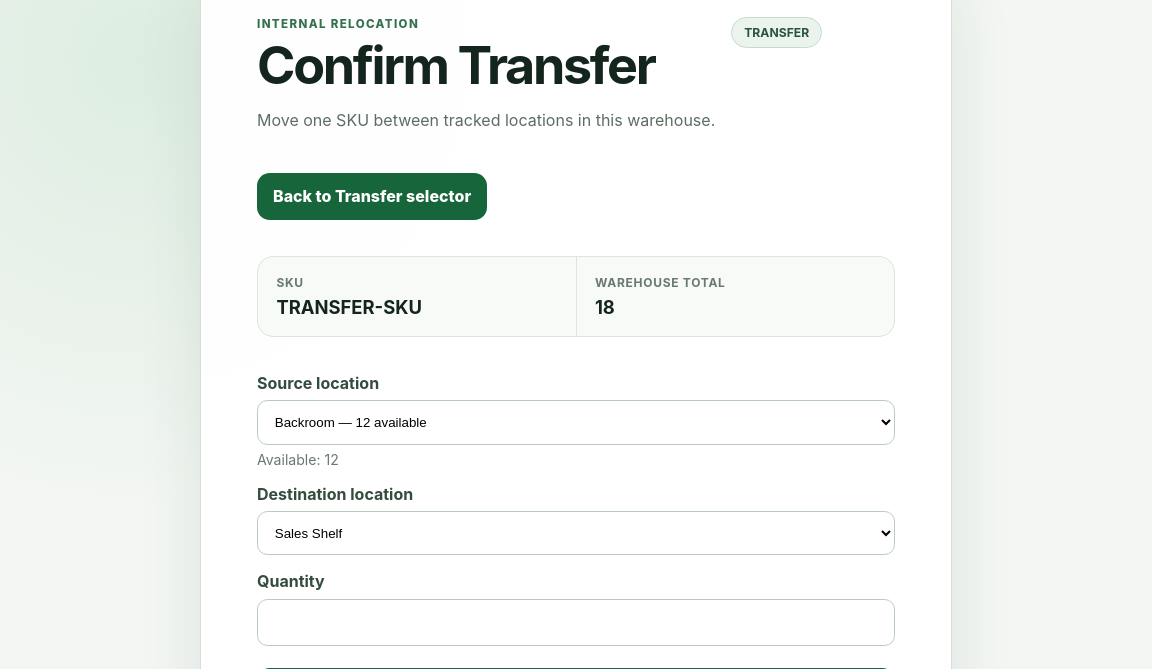
Test case: US-TRF-001 Transfer page › reuses a key after a network failure for the same command
The width and height of the screenshot is (1152, 669).
Expected: the text "TRANSFER-SKU" is shown, x1=276 y1=296 x2=422 y2=318
Type "4" into the field labelled "Quantity" at x=576, y=622, box x1=257 y1=598 x2=895 y2=646
(page scrolled)
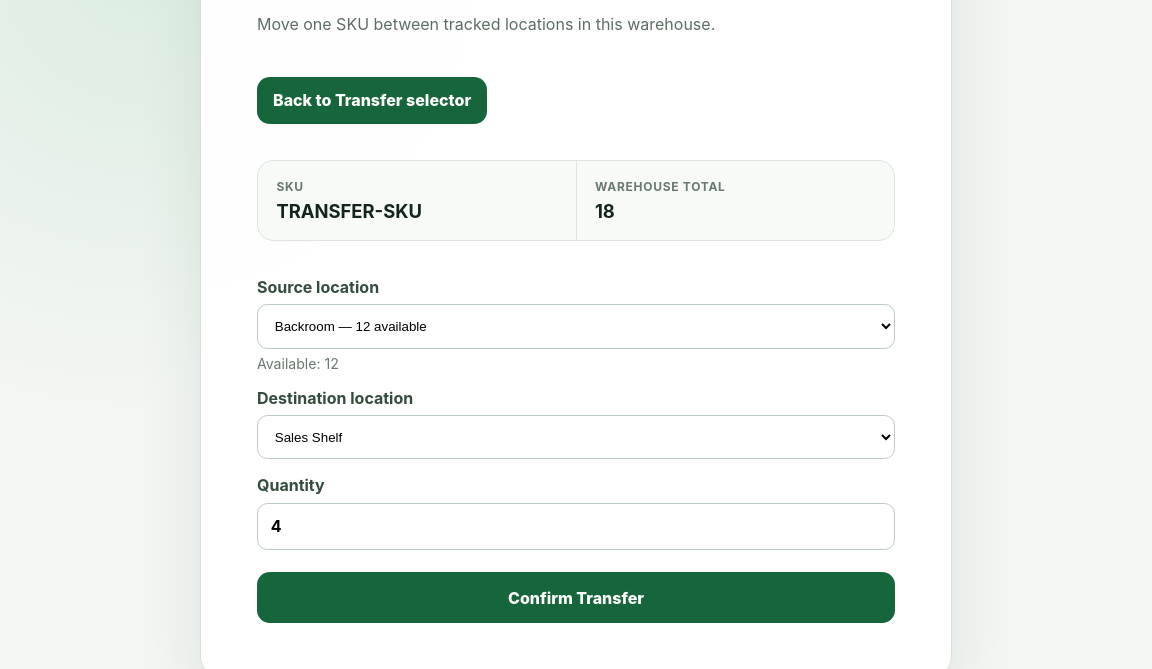
Click the button "Confirm Transfer" at x=576, y=598, box x1=257 y1=572 x2=895 y2=623
(page scrolled)
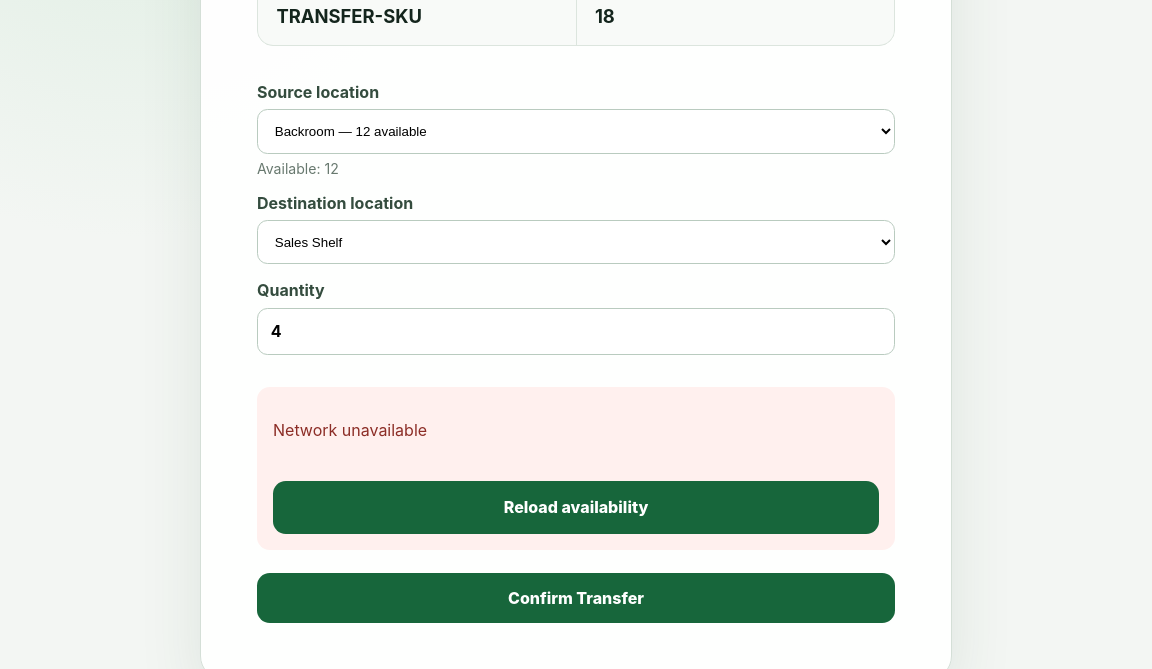
Now the message shows "Network unavailable", box x1=273 y1=420 x2=427 y2=440
Click the button "Confirm Transfer" at x=576, y=598, box x1=257 y1=573 x2=895 y2=623
(page scrolled)
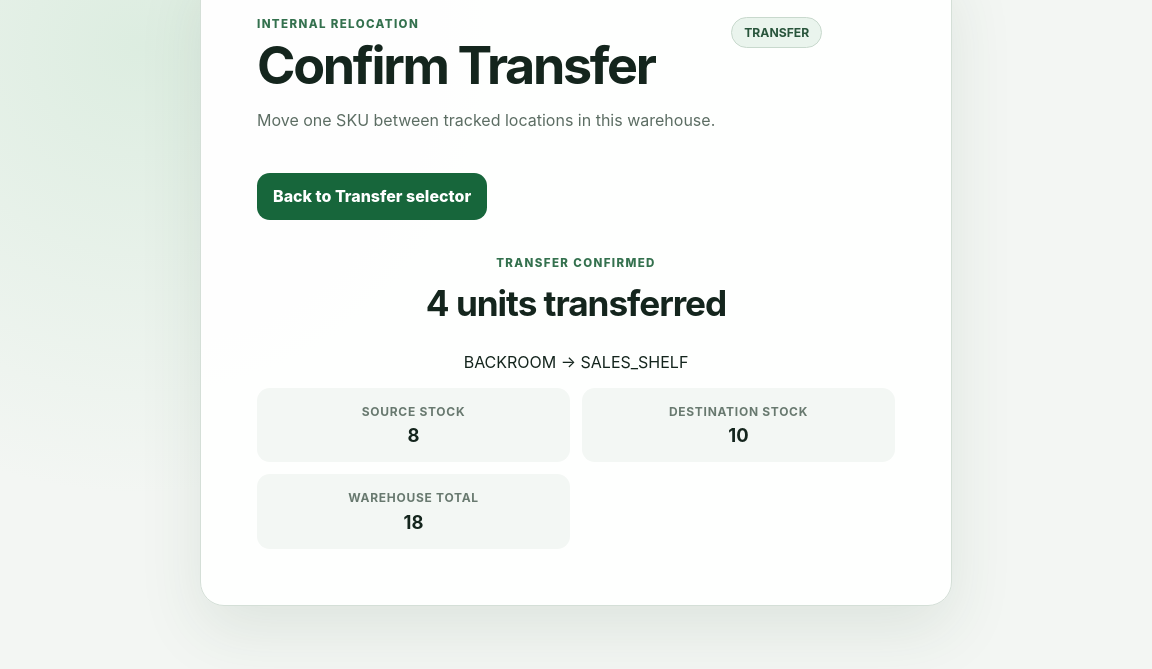
Now the text "Transfer confirmed" is shown, box x1=496 y1=256 x2=656 y2=270
